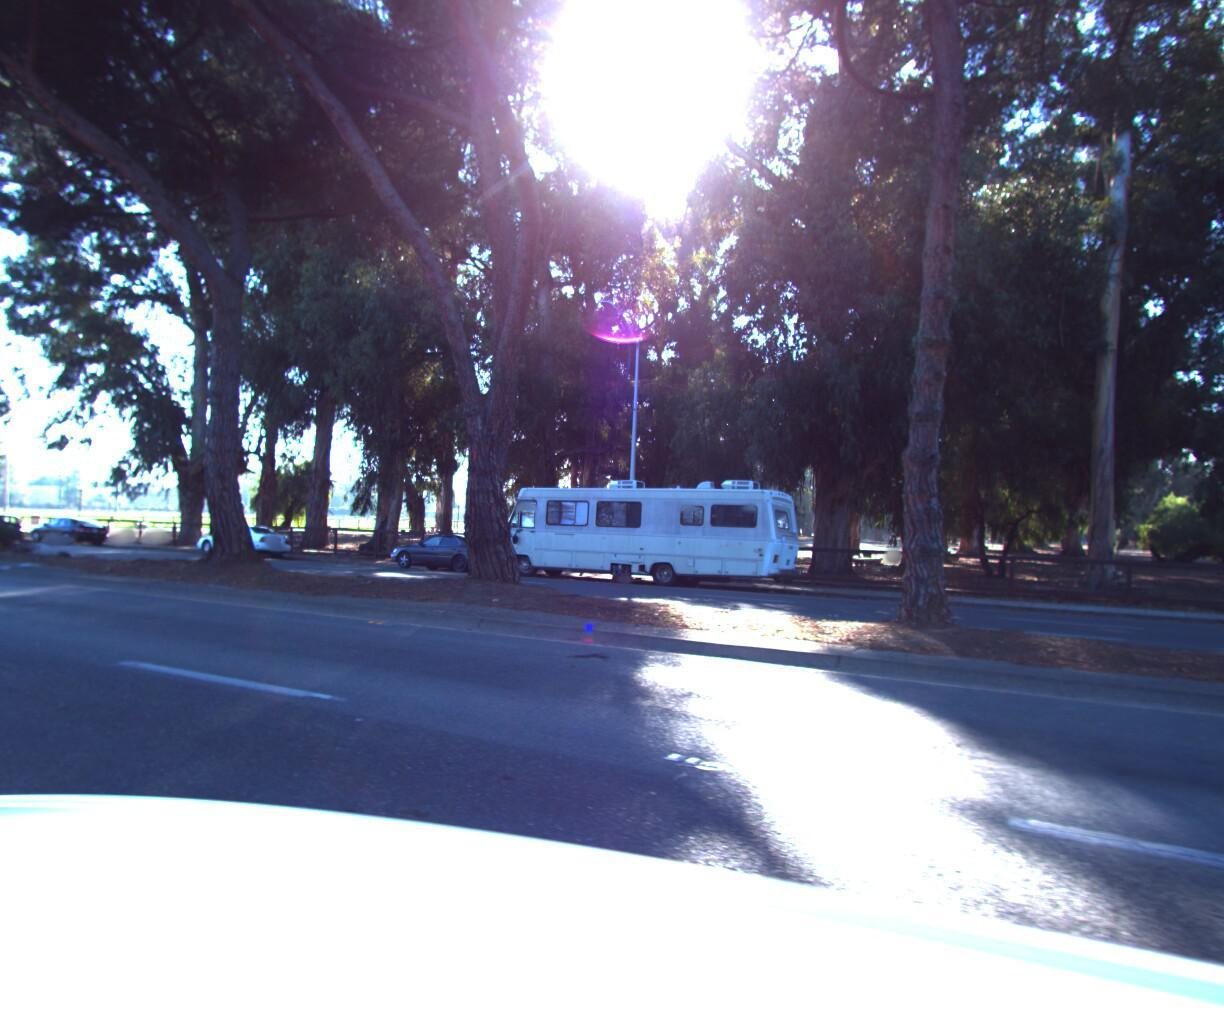car: (380, 535, 514, 580), (185, 525, 297, 567), (25, 519, 114, 553), (0, 515, 32, 549)
other_vehicle: (486, 475, 808, 597)
